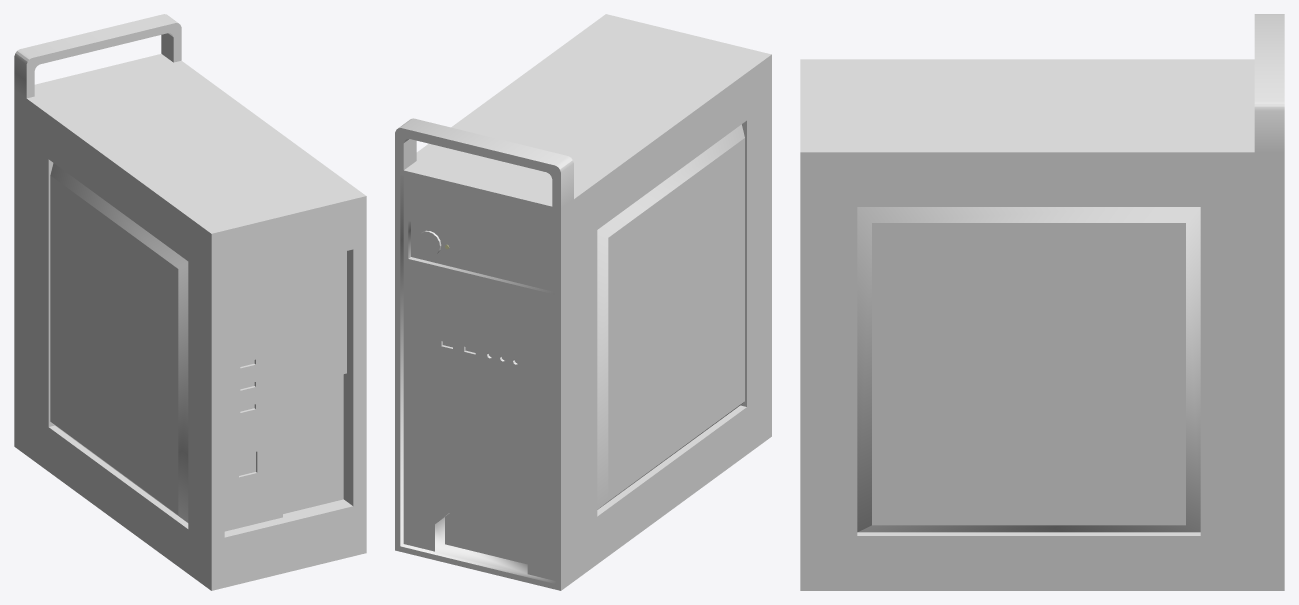
The model's file is computer_a.fbx.
3 renders of one model, left to right at view 1: azimuth 30°, elevation 25°; view 2: azimuth 150°, elevation 25°; view 3: azimuth 270°, elevation 25°, orthographic. The views are drawn at different scales.
Visible parts, largest first — view 1: computer_a; view 2: computer_a; view 3: computer_a.
Boxes of the visible parts, x1,y1,x2,y2 form: computer_a: (14,14,366,590); computer_a: (395,14,771,590); computer_a: (800,14,1284,590).
Bounding box in the file's own units: 0.2392 × 0.5547 × 0.5.
